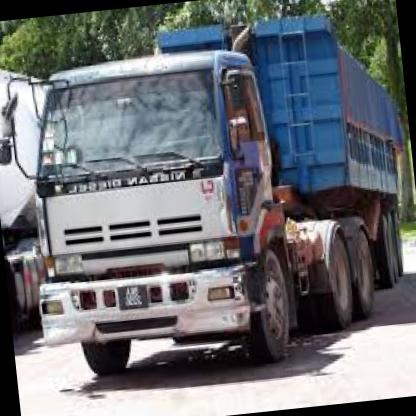truck: (14, 42, 297, 394)
